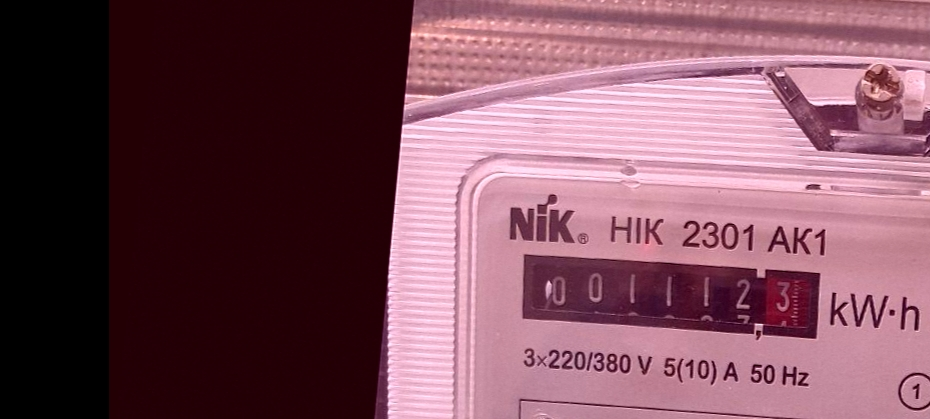0: (583, 268, 608, 307), (547, 271, 572, 308)
1: (622, 268, 643, 308), (660, 271, 677, 310), (698, 272, 715, 311)
2: (731, 276, 756, 313)
3: (772, 278, 793, 315)
screen: (511, 241, 830, 351)
